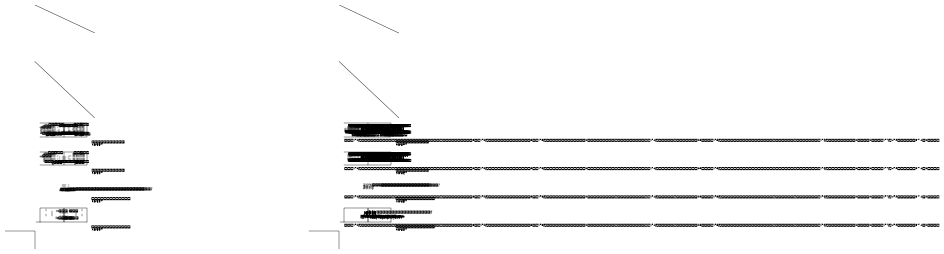corridor: (163, 128, 174, 129), (178, 99, 189, 100), (163, 99, 174, 100), (93, 99, 104, 100), (108, 99, 119, 100), (178, 128, 189, 129), (93, 128, 104, 129), (108, 128, 119, 129), (163, 120, 174, 121), (108, 90, 119, 91), (93, 90, 104, 91), (178, 120, 189, 121), (178, 90, 189, 91), (93, 120, 104, 121), (108, 120, 119, 121), (163, 90, 174, 91), (143, 90, 152, 91), (879, 62, 881, 66), (131, 90, 139, 91), (858, 63, 860, 66), (133, 32, 139, 32), (144, 32, 149, 32)
room: (867, 33, 873, 38), (852, 95, 857, 98), (852, 92, 857, 95), (882, 95, 887, 98), (882, 92, 887, 95), (143, 90, 152, 91), (879, 62, 881, 66), (131, 90, 139, 91), (129, 127, 135, 128), (852, 122, 855, 124), (852, 121, 855, 123), (852, 126, 855, 128), (884, 122, 887, 124), (884, 121, 887, 123), (884, 126, 887, 128), (858, 63, 860, 66), (147, 127, 153, 128), (85, 120, 90, 121), (136, 127, 141, 128), (141, 127, 146, 128), (852, 95, 857, 96), (852, 94, 857, 95), (882, 95, 887, 96), (882, 94, 887, 95), (85, 126, 90, 127), (147, 120, 152, 121), (123, 120, 127, 121), (131, 120, 135, 121), (135, 120, 139, 121), (143, 120, 147, 121), (155, 120, 159, 121), (99, 117, 101, 119), (114, 117, 116, 119), (167, 117, 169, 119), (182, 117, 184, 119), (123, 90, 127, 91), (155, 90, 159, 91), (167, 88, 169, 90), (114, 88, 116, 90), (135, 61, 139, 62), (131, 61, 135, 62), (143, 61, 147, 62), (147, 61, 151, 62), (852, 125, 855, 126), (884, 125, 887, 126), (884, 122, 887, 123), (852, 122, 855, 123), (144, 32, 149, 32), (154, 32, 158, 32), (852, 124, 855, 124), (852, 126, 855, 126), (884, 124, 887, 124), (884, 126, 887, 126), (852, 95, 857, 95), (882, 95, 887, 95), (85, 96, 90, 96), (124, 32, 129, 32), (133, 32, 139, 32)
wall: (800, 137, 943, 195), (72, 137, 214, 195), (800, 225, 944, 254), (72, 225, 214, 254), (108, 128, 119, 129), (93, 128, 104, 129), (93, 120, 104, 121), (108, 120, 119, 121), (163, 120, 174, 121), (178, 120, 189, 121), (163, 128, 174, 129), (178, 128, 189, 129), (93, 99, 104, 100), (108, 99, 119, 100), (163, 99, 174, 100), (178, 99, 189, 100), (93, 90, 104, 91), (108, 90, 119, 91), (163, 90, 174, 91), (178, 90, 189, 91), (123, 39, 129, 40), (154, 39, 160, 40), (869, 37, 871, 38)
